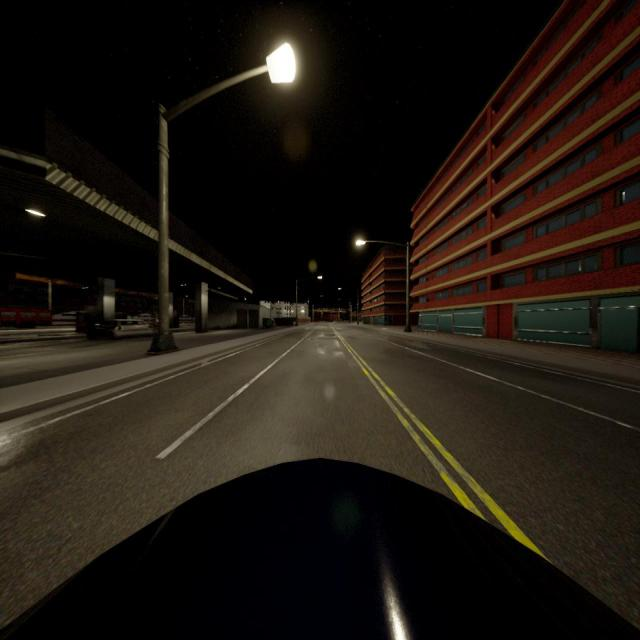Vehicle: (0, 462, 640, 638), (328, 314, 338, 322)
